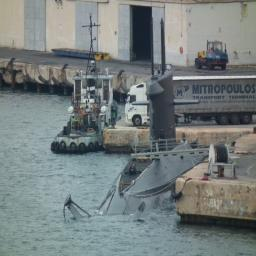submarine: (65, 75, 228, 224)
